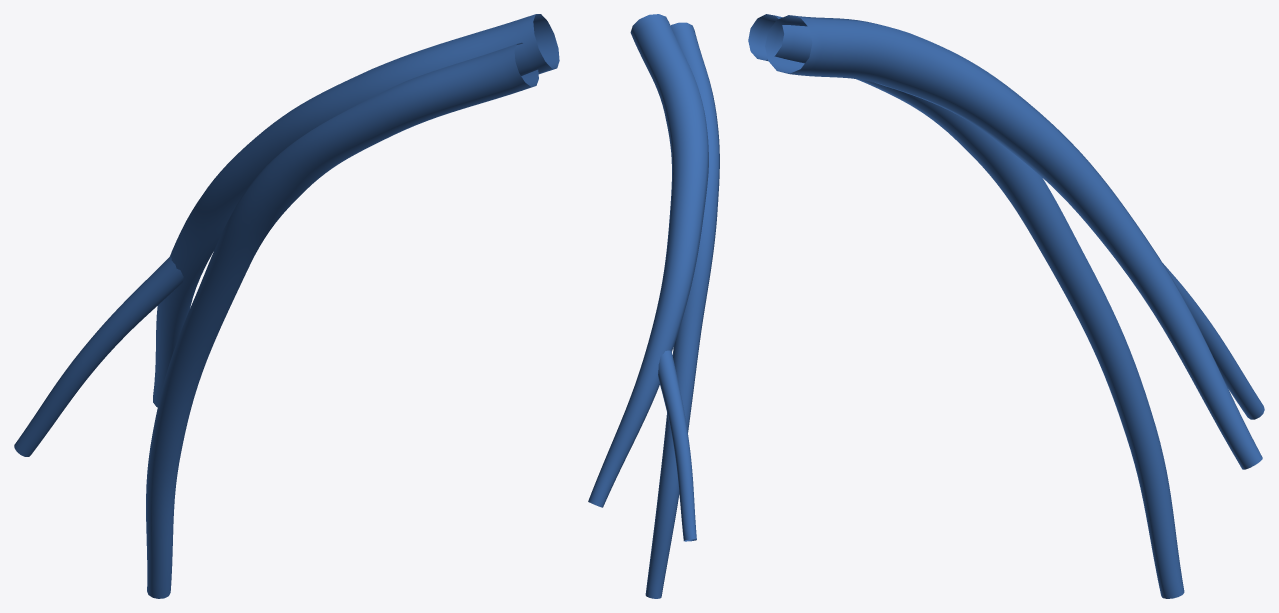
3 views of the same model, side by side, from view 1: azimuth 30°, elevation 25°; view 2: azimuth 150°, elevation 25°; view 3: azimuth 270°, elevation 25° (orthographic). The views are drawn at different scales.
Visible parts, largest first — view 1: 右肺内侧静脉; view 2: 右肺内侧静脉; view 3: 右肺内侧静脉.
Part boxes in pixels (x1=…): 右肺内侧静脉: x1=14, y1=14, x2=559, y2=598; 右肺内侧静脉: x1=588, y1=14, x2=719, y2=598; 右肺内侧静脉: x1=748, y1=14, x2=1264, y2=598.
Bounding box in the file's own units: 0.0548 × 0.1105 × 0.0769.
